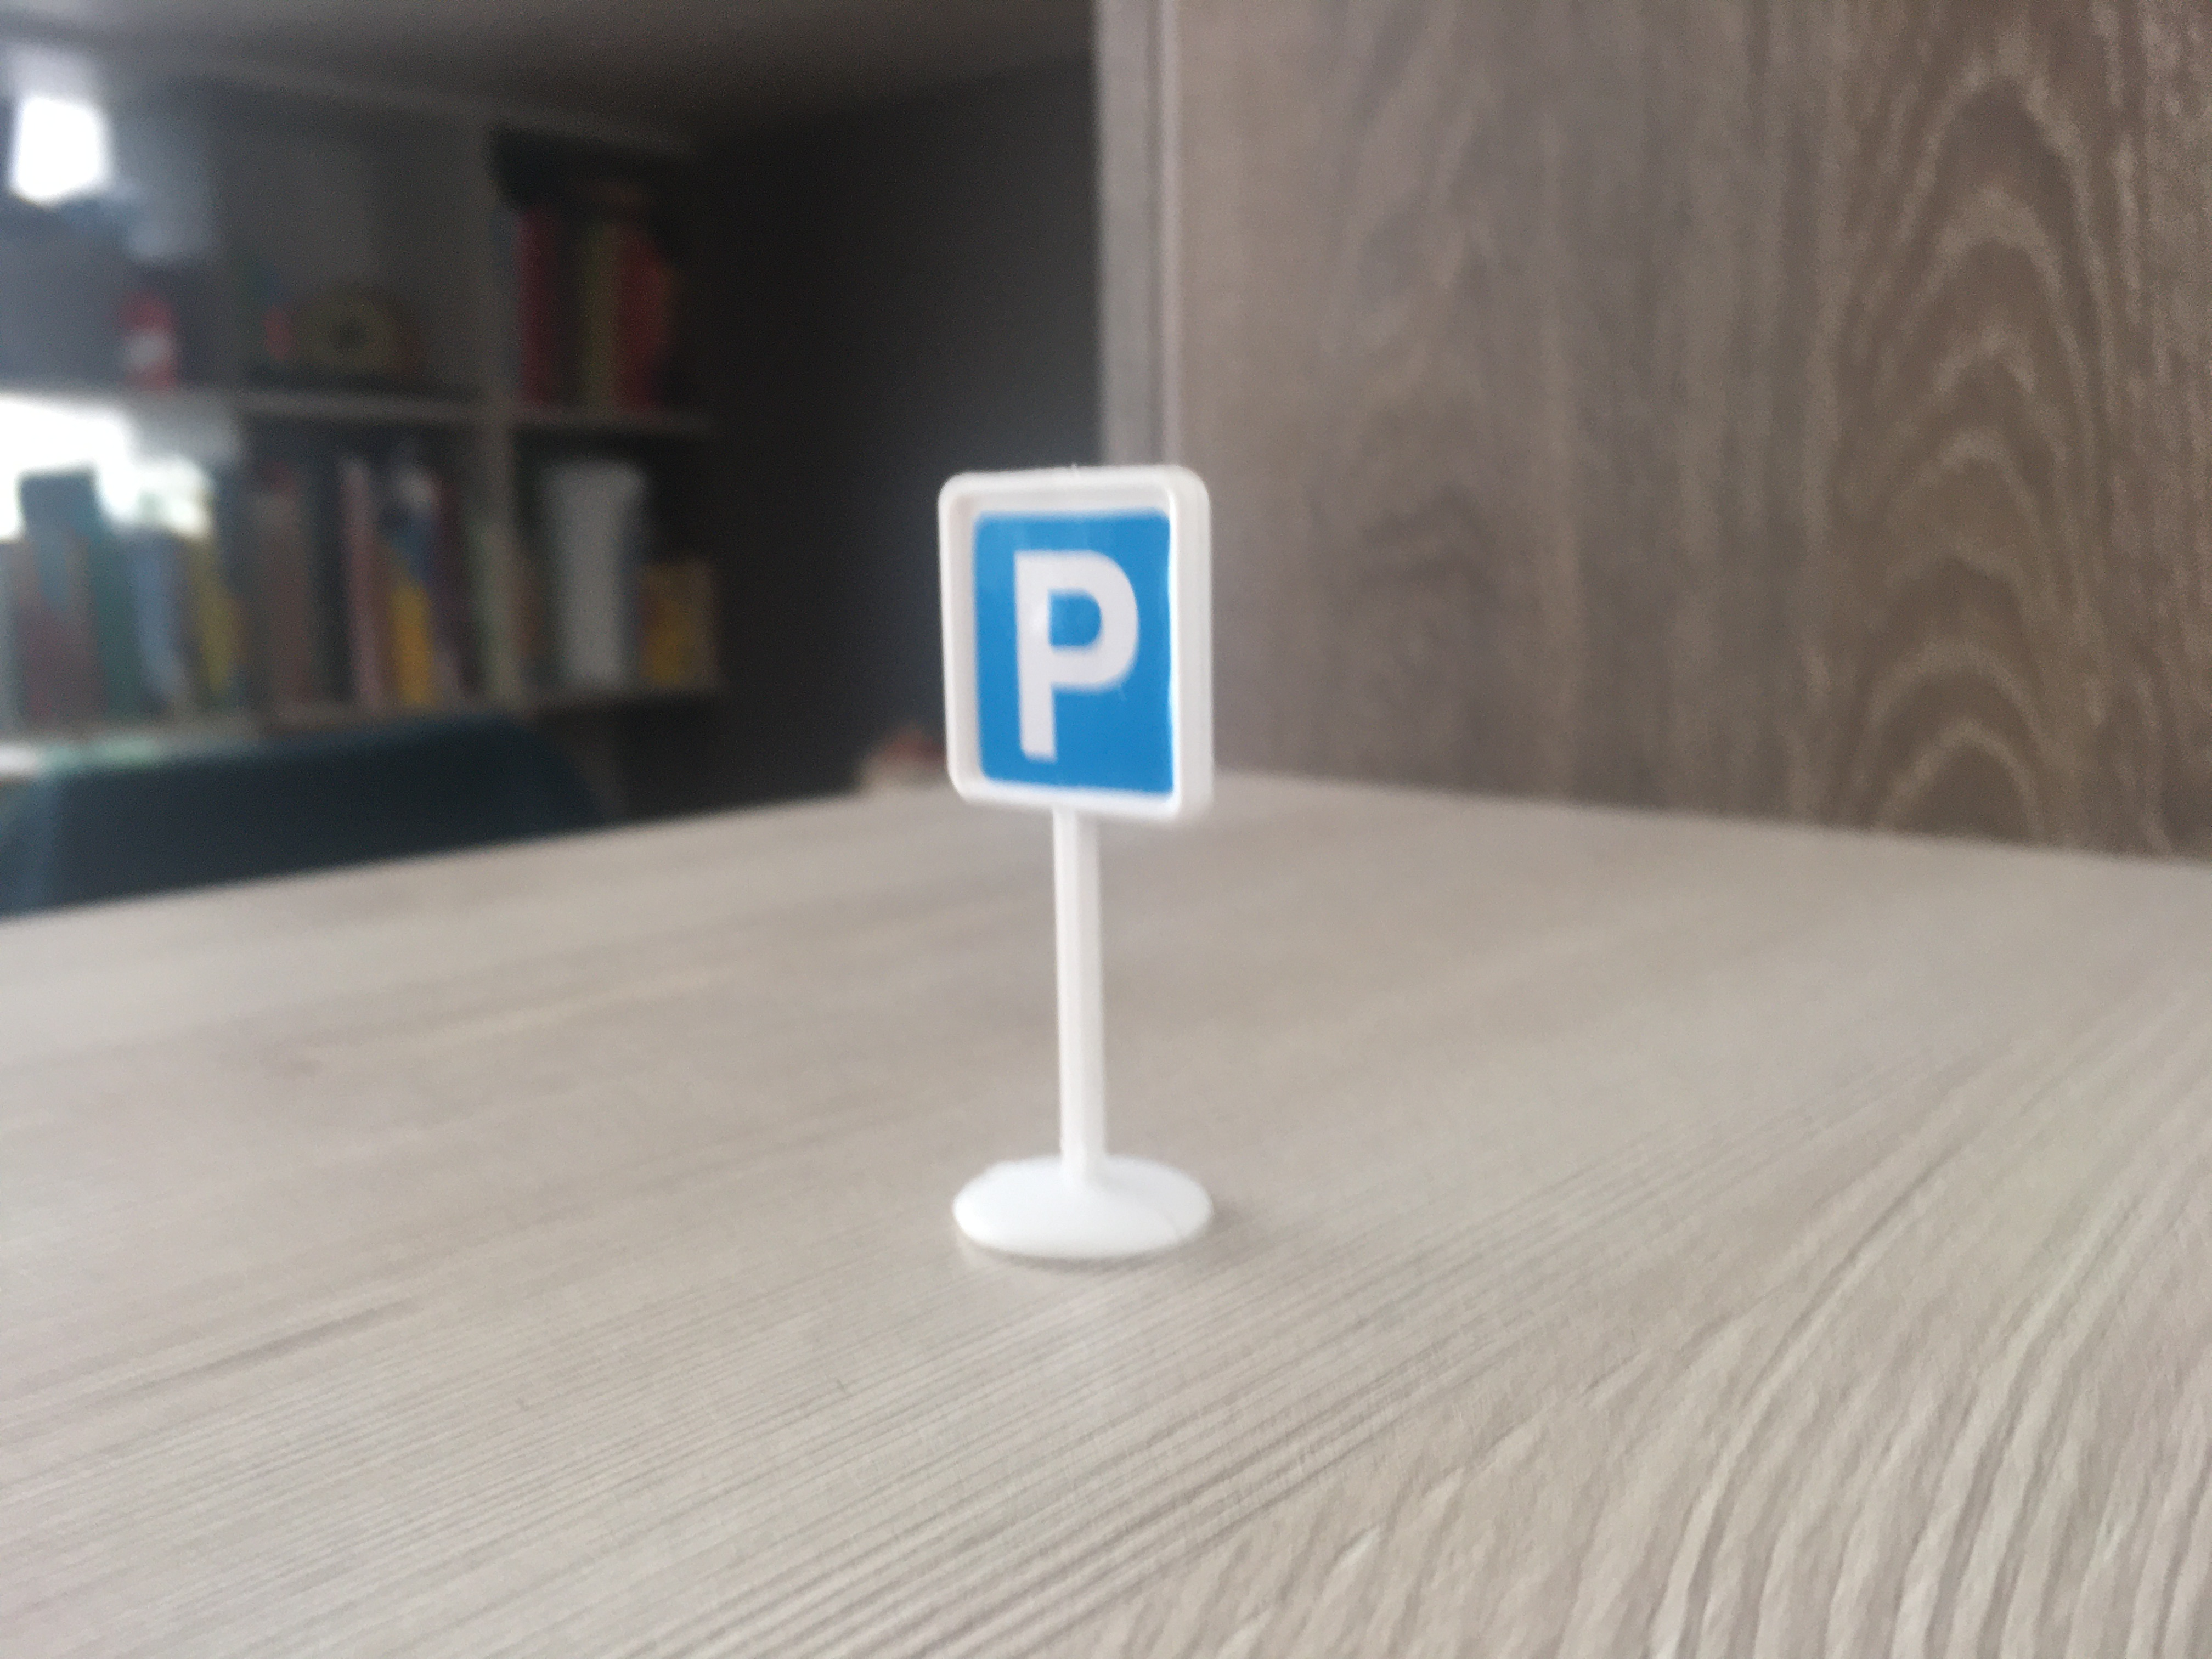parking: (935, 462, 1221, 835)
